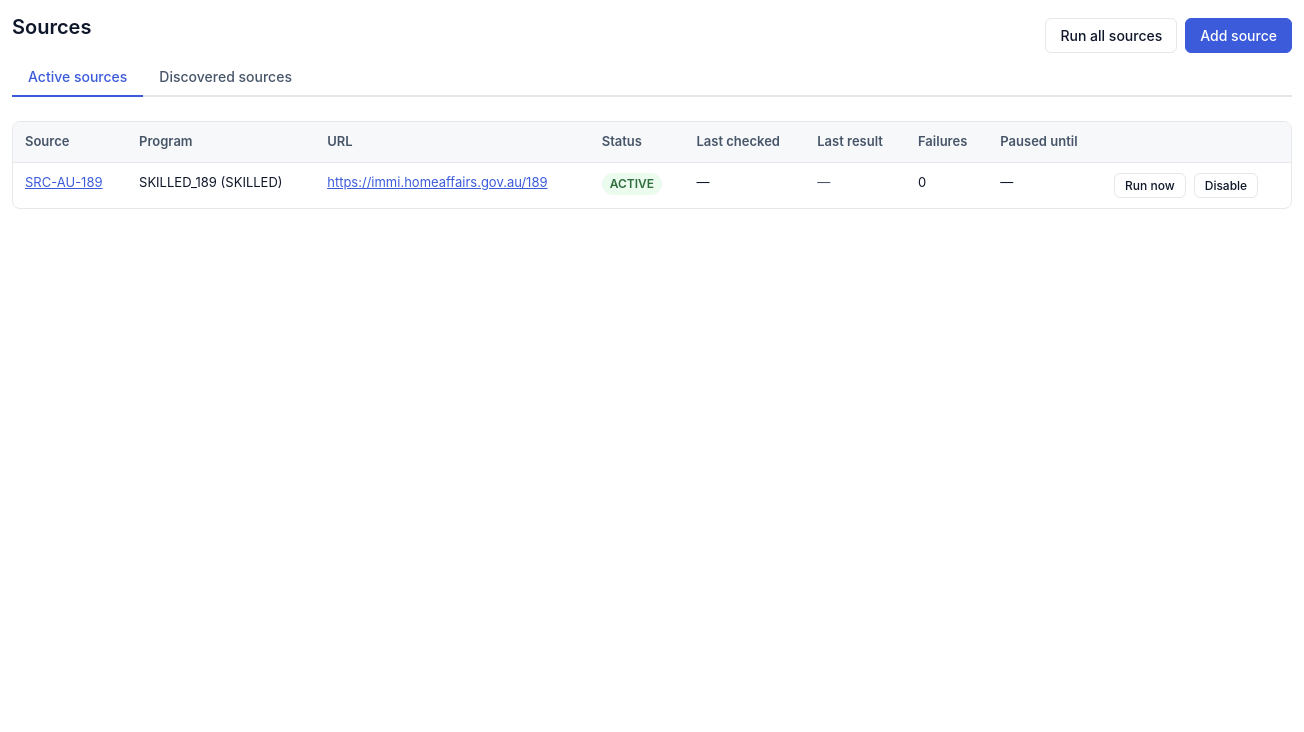
it: 409 responses tell busy and refused apart › shows the host's own explanation for a cooldown 409
Expected: the link "SRC-AU-189" is shown, [25,174,102,190]
Click the button "Run now". click: click(1150, 185)
box: [1114,172,1186,198]
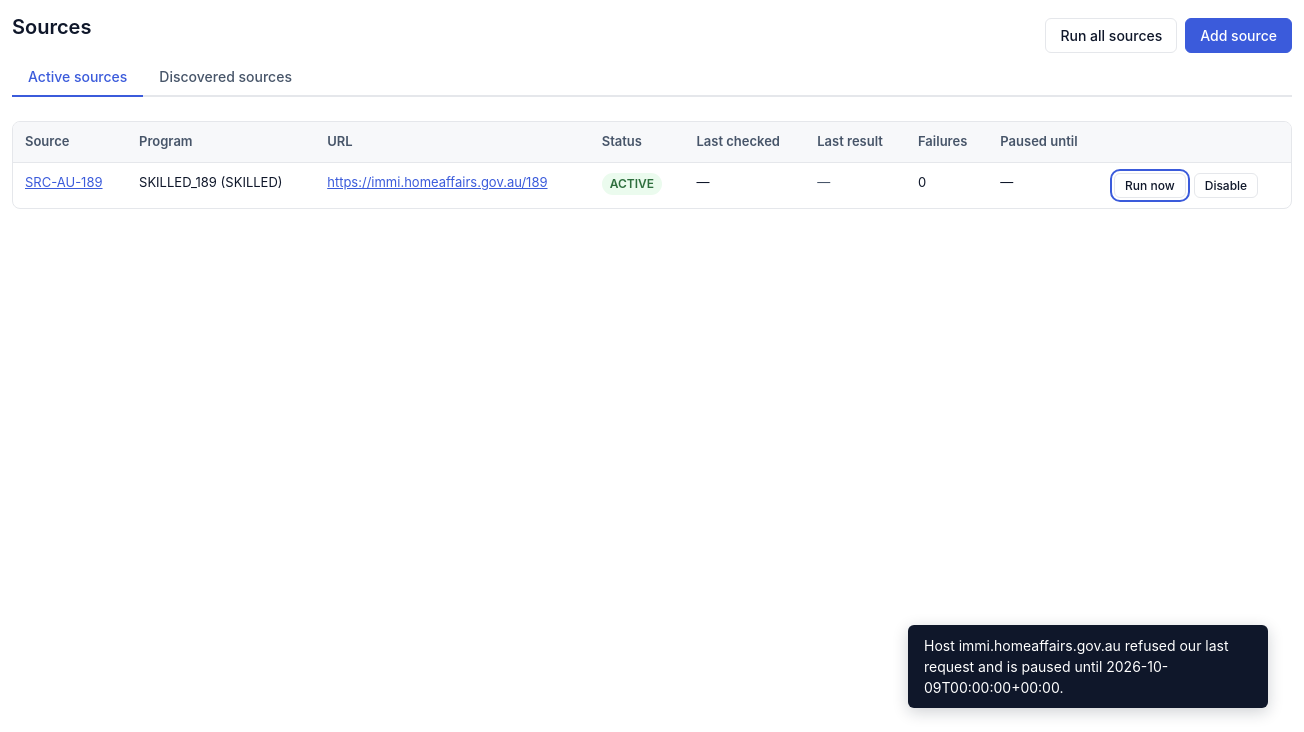
Expected: the message does not show "already in progress", [908,625,1268,708]
Result: the message shows "refused our last request" at [924,637,1229,696]
